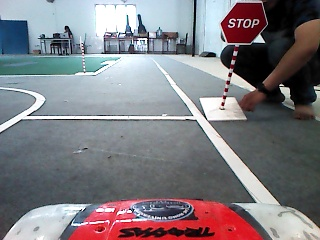stop: (220, 2, 269, 45)
